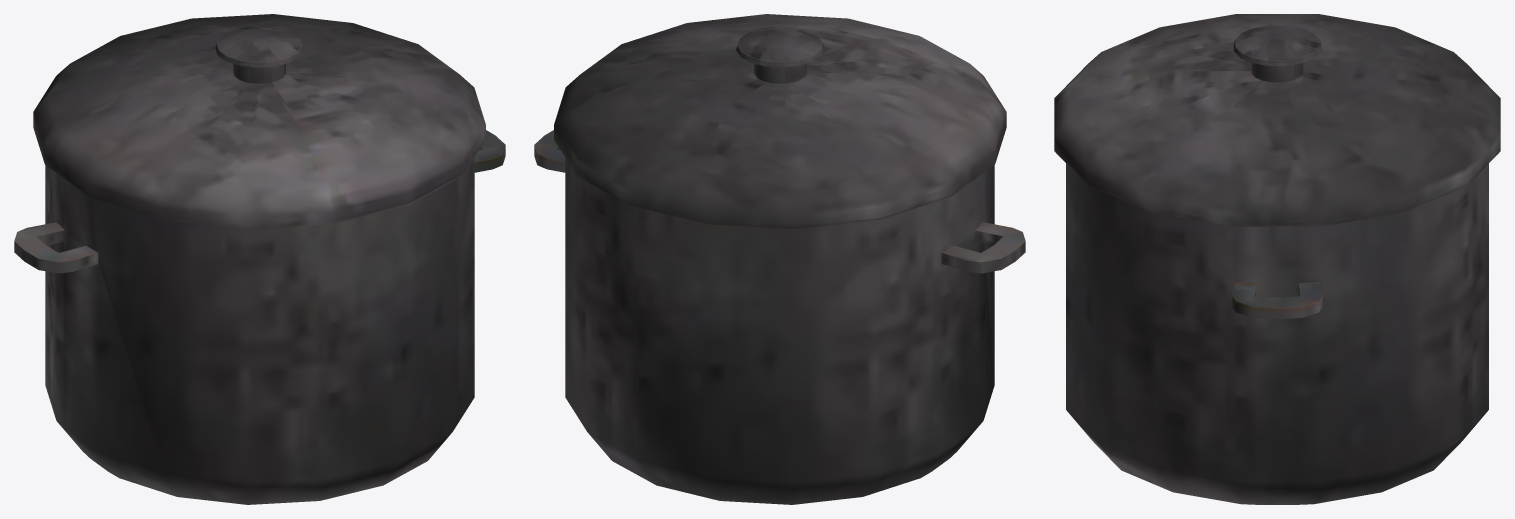
Rendered from cook-pot.glb.
The picture shows the model from 3 angles, left to right: view 1: azimuth 30°, elevation 25°; view 2: azimuth 150°, elevation 25°; view 3: azimuth 270°, elevation 25°; orthographic projection.
Parts seen in each view (by area): view 1: SM_Pot01_Utensils_0; view 2: SM_Pot01_Utensils_0; view 3: SM_Pot01_Utensils_0.
Boxes of the visible parts, <box> form: SM_Pot01_Utensils_0: <box>14,14,505,504</box>; SM_Pot01_Utensils_0: <box>534,14,1025,504</box>; SM_Pot01_Utensils_0: <box>1054,14,1500,504</box>.
Bounding box in the file's own units: 0.3357 × 0.2658 × 0.2746.
1 material, 1 textured.
